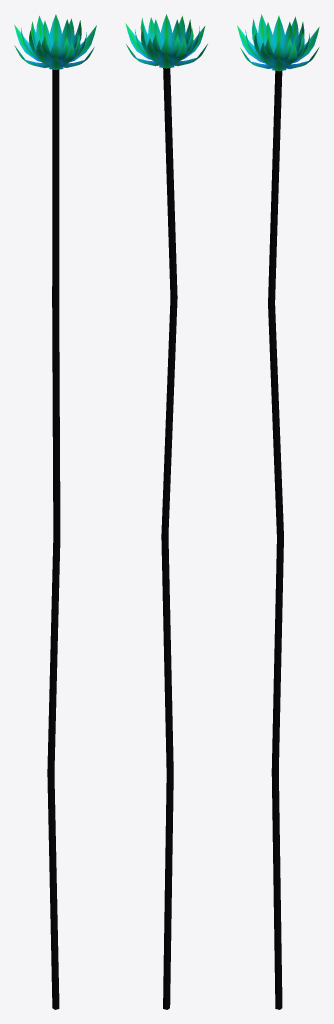
File: WaterLily_Flower_A1_01.fbx
The picture shows the model from 3 angles, left to right: view 1: azimuth 30°, elevation 25°; view 2: azimuth 150°, elevation 25°; view 3: azimuth 330°, elevation 25°; orthographic projection.
Visible parts, largest first — view 1: WaterLily_Flower_A1_01_LOD0; view 2: WaterLily_Flower_A1_01_LOD0; view 3: WaterLily_Flower_A1_01_LOD0.
Boxes of the visible parts, x1,y1,x2,y2 form: WaterLily_Flower_A1_01_LOD0: (14, 14, 96, 1009); WaterLily_Flower_A1_01_LOD0: (125, 14, 207, 1009); WaterLily_Flower_A1_01_LOD0: (237, 14, 319, 1009).
Size of what is drawn, in the model's own units: 0.368 by 4.18 by 0.3113.
